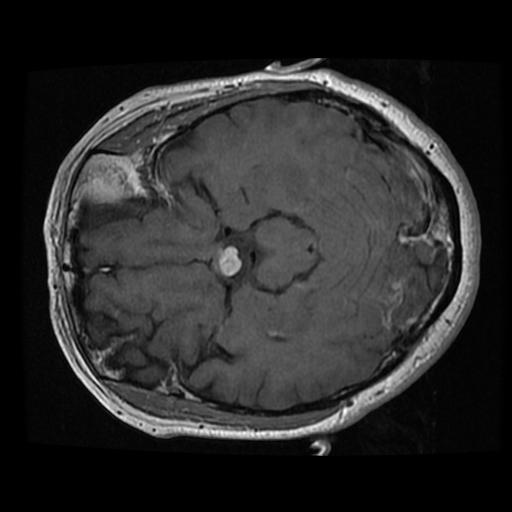pituitary tumour: (215, 247, 242, 275)
